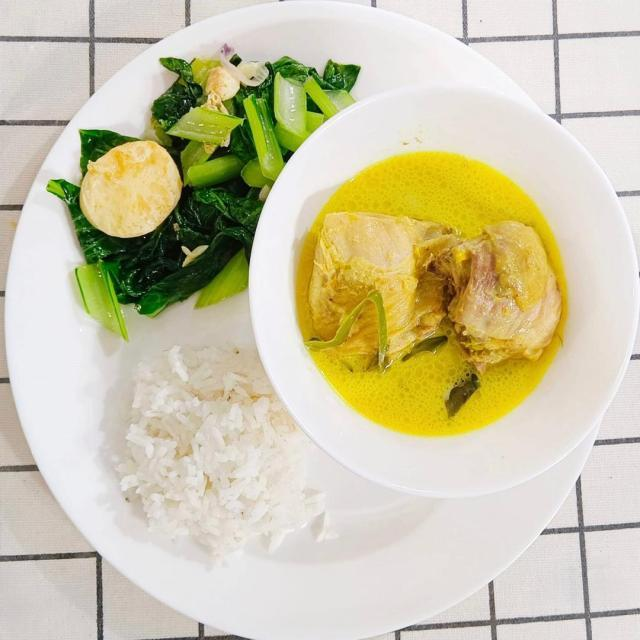Fish: (310, 213, 564, 381)
Plate: (506, 431, 639, 637)
Rice: (114, 345, 301, 564)
Vegetables: (45, 53, 366, 339)
